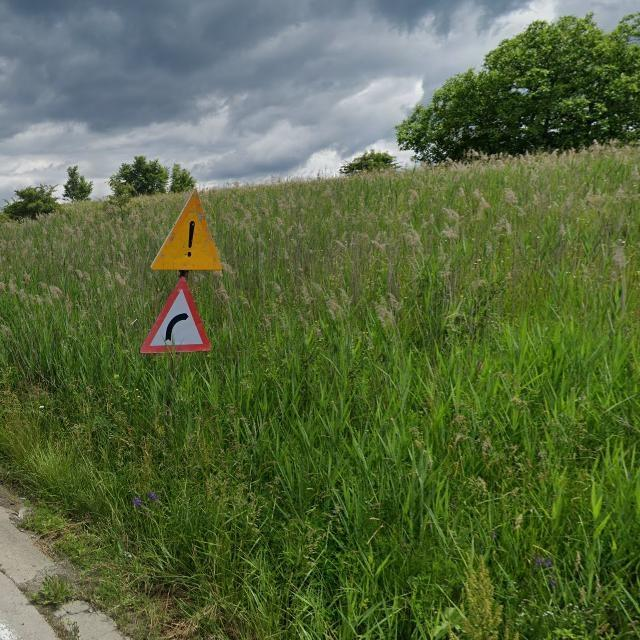warn_right_curve: (138, 275, 214, 356)
